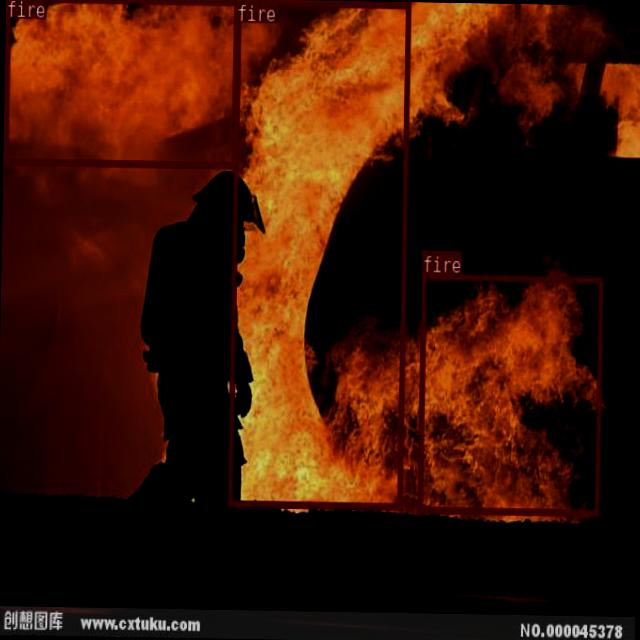fire: (226, 0, 410, 507), (416, 272, 602, 514), (2, 0, 238, 167)
